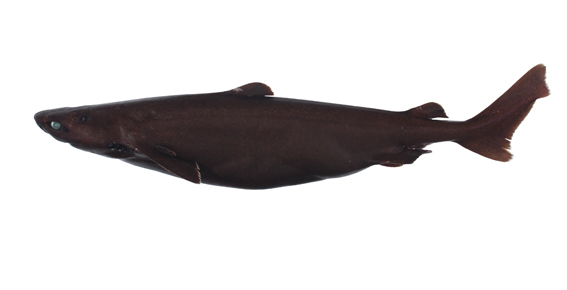fish: (35, 64, 551, 190)
